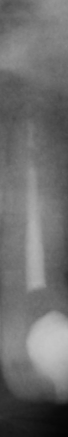fracture: (24, 113, 36, 149)
